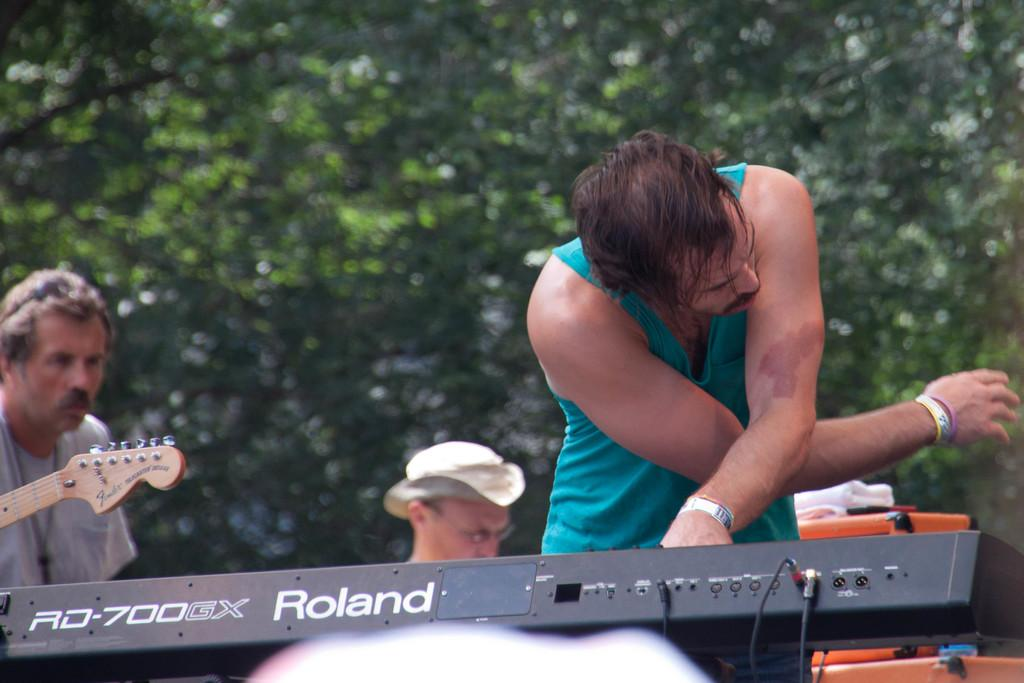Hat: (384, 441, 523, 520)
